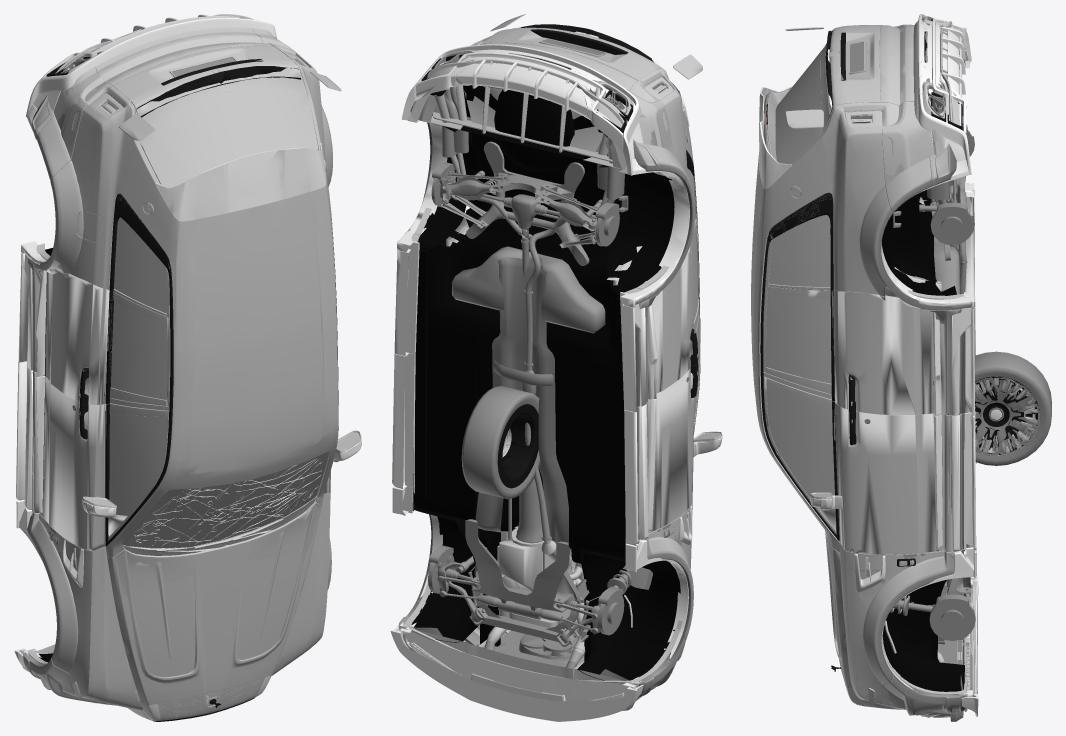
The picture shows the model from 3 angles, left to right: view 1: azimuth 30°, elevation 25°; view 2: azimuth 150°, elevation 25°; view 3: azimuth 270°, elevation 25°; orthographic projection. The views are drawn at different scales.
Parts seen in each view (by area): view 1: Object_10, Object_4; view 2: Object_4, Object_10; view 3: Object_10, Object_4.
Part boxes in pixels (box(x1,y1,x2,y2)): Object_10: box(14, 14, 361, 721); Object_4: box(23, 27, 332, 719); Object_4: box(399, 39, 695, 698); Object_10: box(390, 14, 722, 721); Object_10: box(751, 14, 1040, 721); Object_4: box(825, 21, 1051, 715).
Bounding box in the file's own units: 2.35 × 5.45 × 2.27.
Materials: 1 (1 with a texture image).
